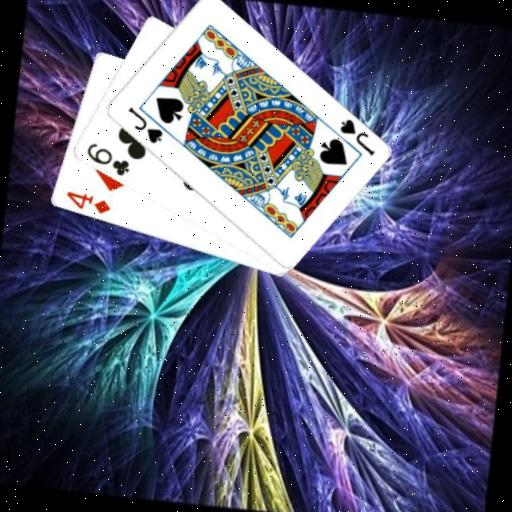4D: (61, 188, 113, 217)
6C: (81, 140, 133, 179)
JS: (334, 115, 380, 158), (122, 103, 167, 146)
